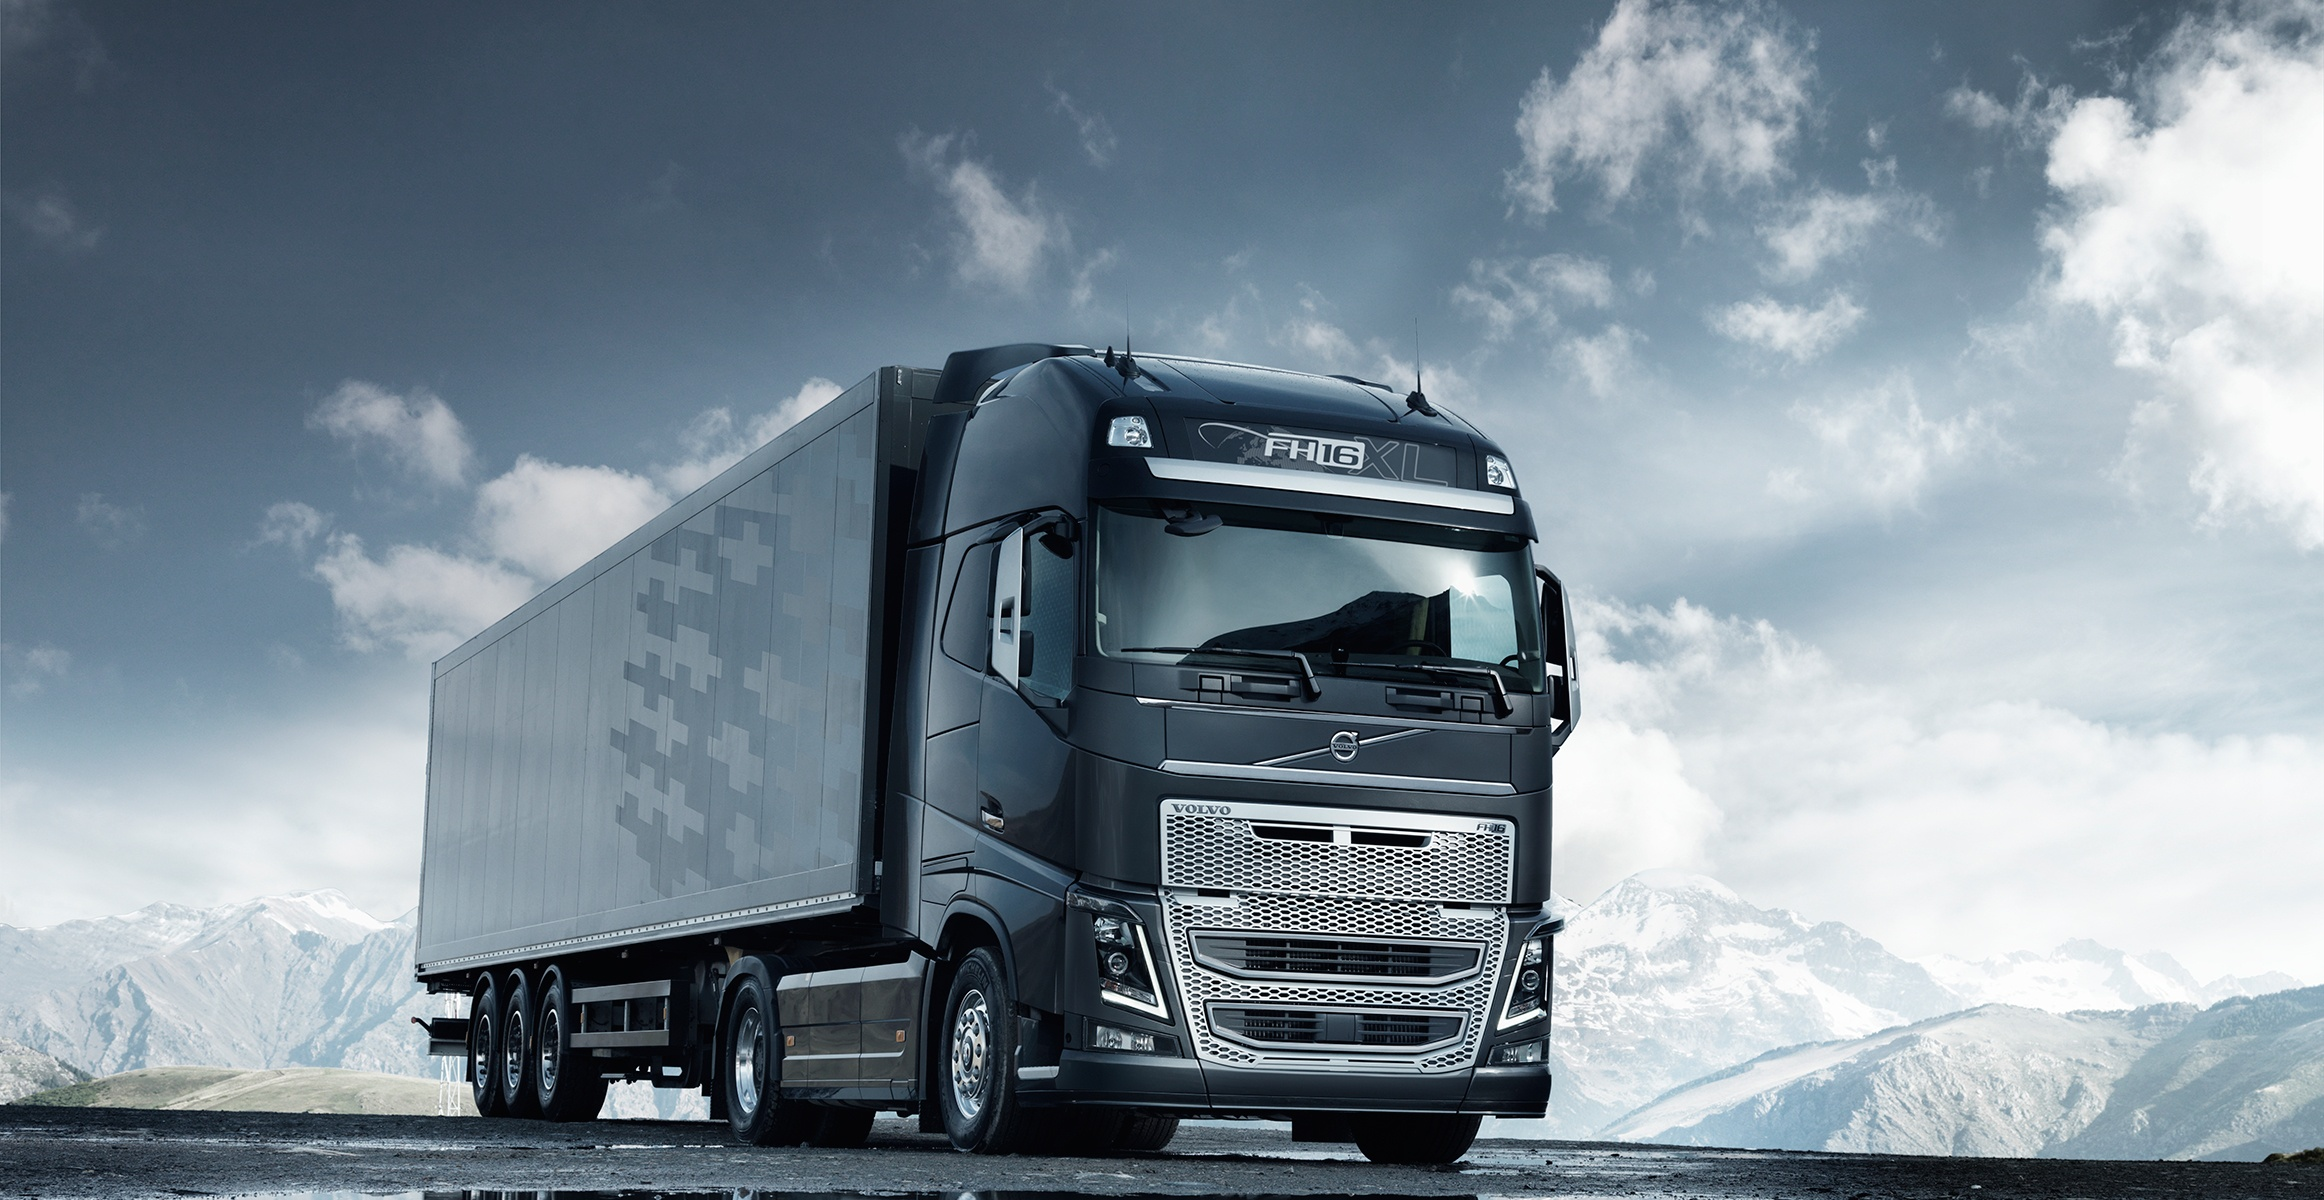heavy truck: (376, 338, 1544, 1159)
